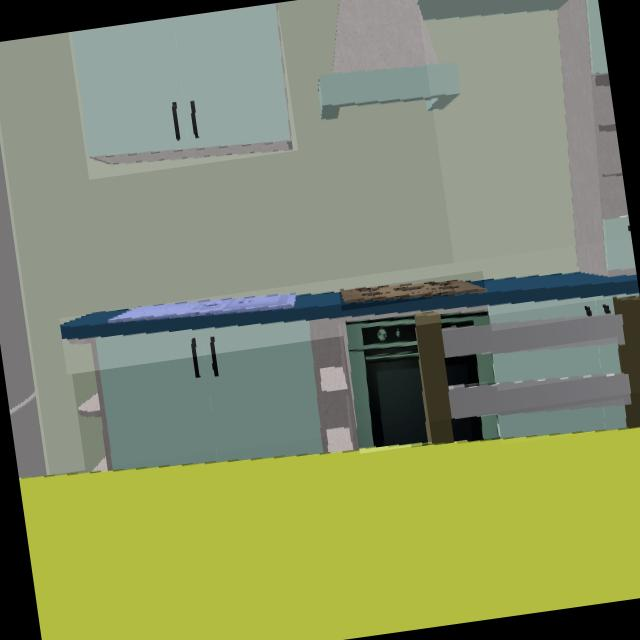cabinet: (418, 0, 637, 278), (77, 319, 358, 473), (70, 3, 294, 167), (495, 344, 621, 385), (498, 405, 628, 440), (489, 297, 615, 326)
chair: (415, 297, 640, 445)
countertop: (62, 273, 640, 341)
fridge: (0, 130, 47, 479)
oven: (347, 319, 428, 450), (445, 355, 496, 388), (452, 415, 500, 442), (442, 309, 490, 328)
stove: (340, 282, 485, 307)
table: (19, 427, 640, 640)
